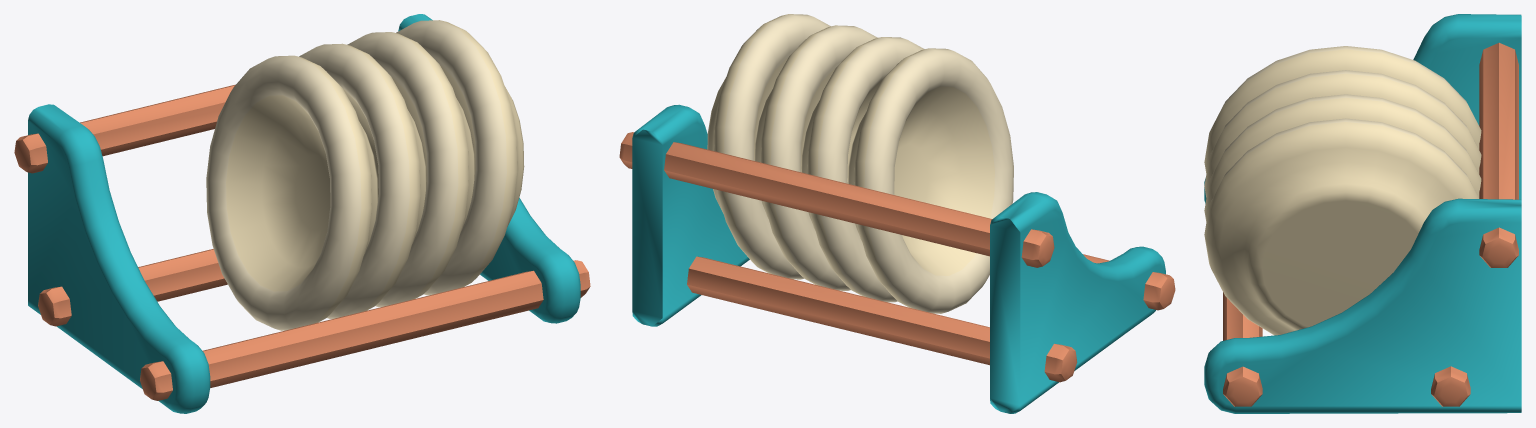
The model's file is escorredor_natal_pratos_pacote.glb.
3 renders of one model, left to right at view 1: azimuth 30°, elevation 25°; view 2: azimuth 150°, elevation 25°; view 3: azimuth 270°, elevation 25°, orthographic. The views are drawn at different scales.
Visible parts, largest first — view 1: escorredor_natal_pratos_pacote; view 2: escorredor_natal_pratos_pacote; view 3: escorredor_natal_pratos_pacote.
Boxes of the visible parts, <box> form: escorredor_natal_pratos_pacote: <box>14,14,590,413</box>; escorredor_natal_pratos_pacote: <box>619,14,1175,413</box>; escorredor_natal_pratos_pacote: <box>1204,14,1521,413</box>.
Bounding box in the file's own units: 0.4093 × 0.2335 × 0.2506.
1 material, 1 textured.
